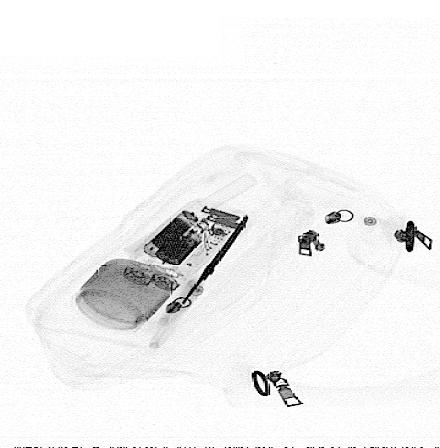Scissors: (150, 214, 251, 348)
